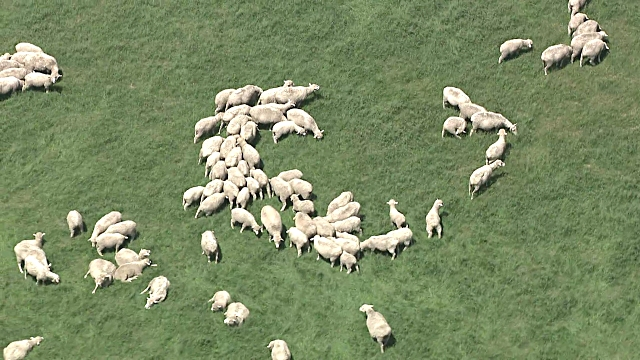sheep: (463, 159, 509, 198), (361, 301, 394, 354), (468, 106, 519, 137), (274, 79, 328, 108), (479, 125, 519, 163), (270, 119, 319, 148), (259, 201, 287, 251), (539, 42, 580, 76), (378, 219, 419, 253), (421, 197, 451, 243), (94, 217, 138, 248), (116, 253, 154, 288), (230, 208, 265, 244), (574, 27, 607, 64), (329, 233, 369, 263), (289, 108, 324, 142), (143, 272, 172, 313), (196, 228, 225, 269), (18, 50, 60, 78), (217, 301, 253, 333), (328, 219, 374, 244), (202, 285, 236, 318), (360, 235, 400, 263), (223, 80, 264, 107), (498, 38, 536, 67), (440, 115, 474, 147), (311, 236, 343, 270), (192, 108, 224, 142), (111, 241, 153, 266), (248, 106, 290, 131), (194, 190, 231, 218), (248, 98, 297, 119), (261, 77, 298, 104), (380, 198, 412, 229), (439, 83, 474, 110), (271, 176, 303, 205), (577, 41, 608, 70), (290, 209, 319, 240), (13, 43, 53, 65), (569, 20, 600, 48), (237, 138, 264, 169), (201, 172, 228, 202), (313, 214, 339, 245), (456, 98, 491, 121), (223, 178, 248, 210), (207, 159, 239, 184), (265, 332, 293, 360), (199, 132, 227, 160), (329, 200, 363, 223), (222, 145, 252, 171), (24, 72, 60, 93), (3, 61, 26, 92), (332, 189, 363, 210), (565, 10, 593, 33), (107, 229, 132, 254), (289, 174, 313, 200), (238, 119, 262, 145), (293, 197, 321, 219), (181, 186, 207, 209), (213, 85, 240, 107), (249, 167, 273, 189), (236, 183, 253, 214), (289, 229, 310, 254), (203, 148, 227, 169), (278, 166, 303, 182), (230, 166, 249, 187), (239, 157, 253, 177)
